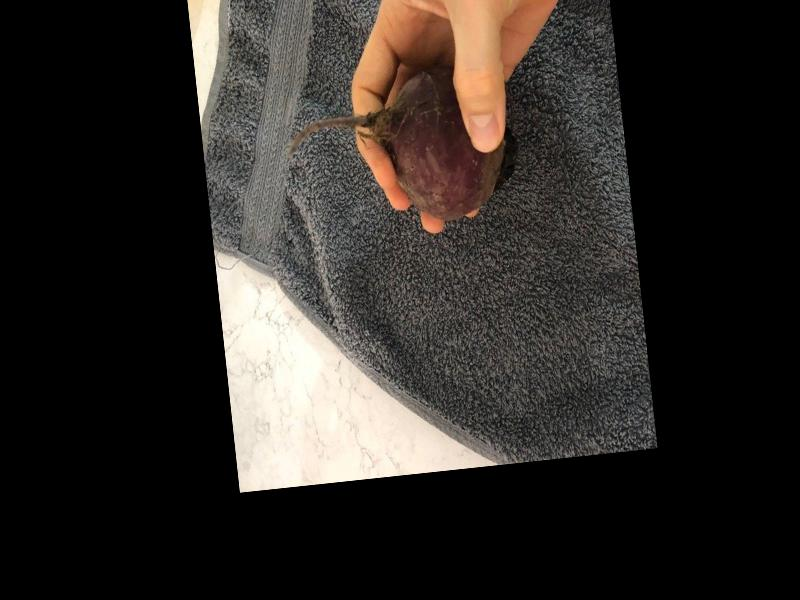Beet: (280, 59, 524, 236)
